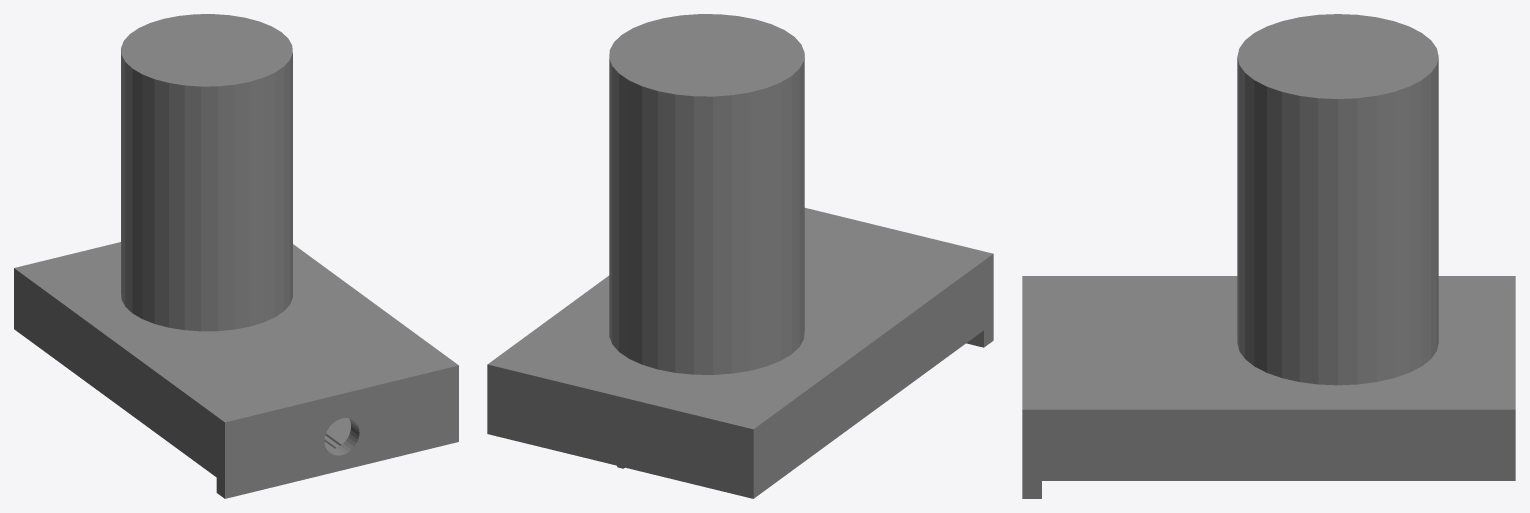
The model's file is GarageMain.obj.
The picture shows the model from 3 angles, left to right: view 1: azimuth 30°, elevation 25°; view 2: azimuth 150°, elevation 25°; view 3: azimuth 270°, elevation 25°; orthographic projection. The views are drawn at different scales.
Parts seen in each view (by area): view 1: 平面; view 2: 平面; view 3: 平面.
Part boxes in pixels (x1,y1,x2,y2): 平面: [14, 14, 458, 498]; 平面: [487, 14, 993, 498]; 平面: [1022, 14, 1515, 498].
Bounding box in the file's own units: 160 × 210 × 250.
1 material, 1 textured.
